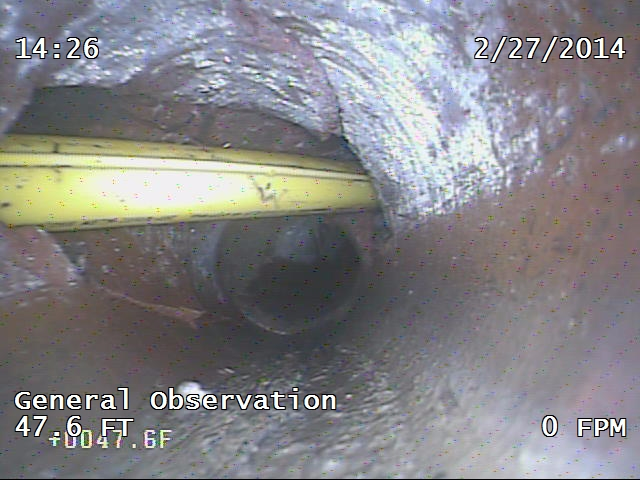cb: (1, 122, 391, 230)
